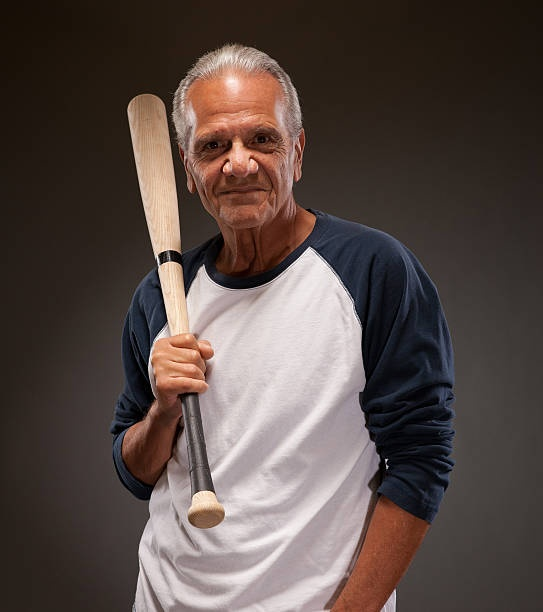bita: (131, 91, 222, 526)
